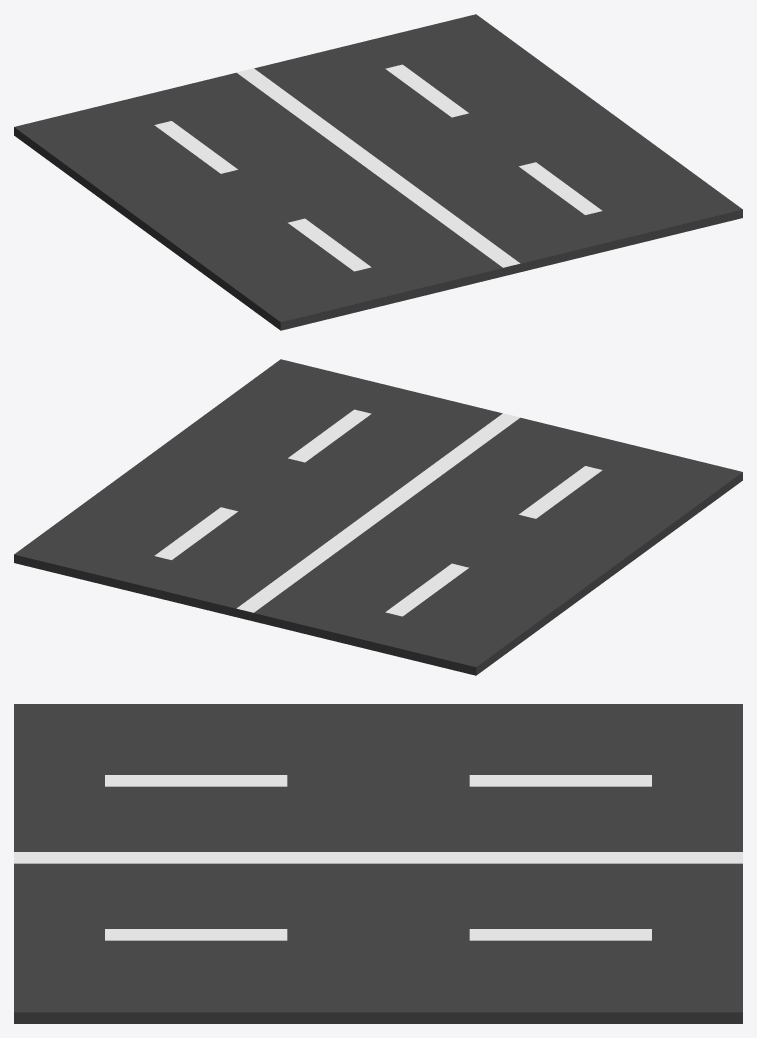
Rendered from aft alp 2 road road 2.0.fbx.
3 views of the same model, one above another, from view 1: azimuth 30°, elevation 25°; view 2: azimuth 150°, elevation 25°; view 3: azimuth 270°, elevation 25° (orthographic). The views are drawn at different scales.
Parts seen in each view (by area): view 1: aft_alp_2_road_road_2_0; view 2: aft_alp_2_road_road_2_0; view 3: aft_alp_2_road_road_2_0.
Boxes of the visible parts, bbox=[...] form: aft_alp_2_road_road_2_0: bbox=[14, 14, 742, 330]; aft_alp_2_road_road_2_0: bbox=[14, 359, 742, 675]; aft_alp_2_road_road_2_0: bbox=[14, 704, 742, 1023].
Size of the model in its own units: 1000 by 18.01 by 1000.
